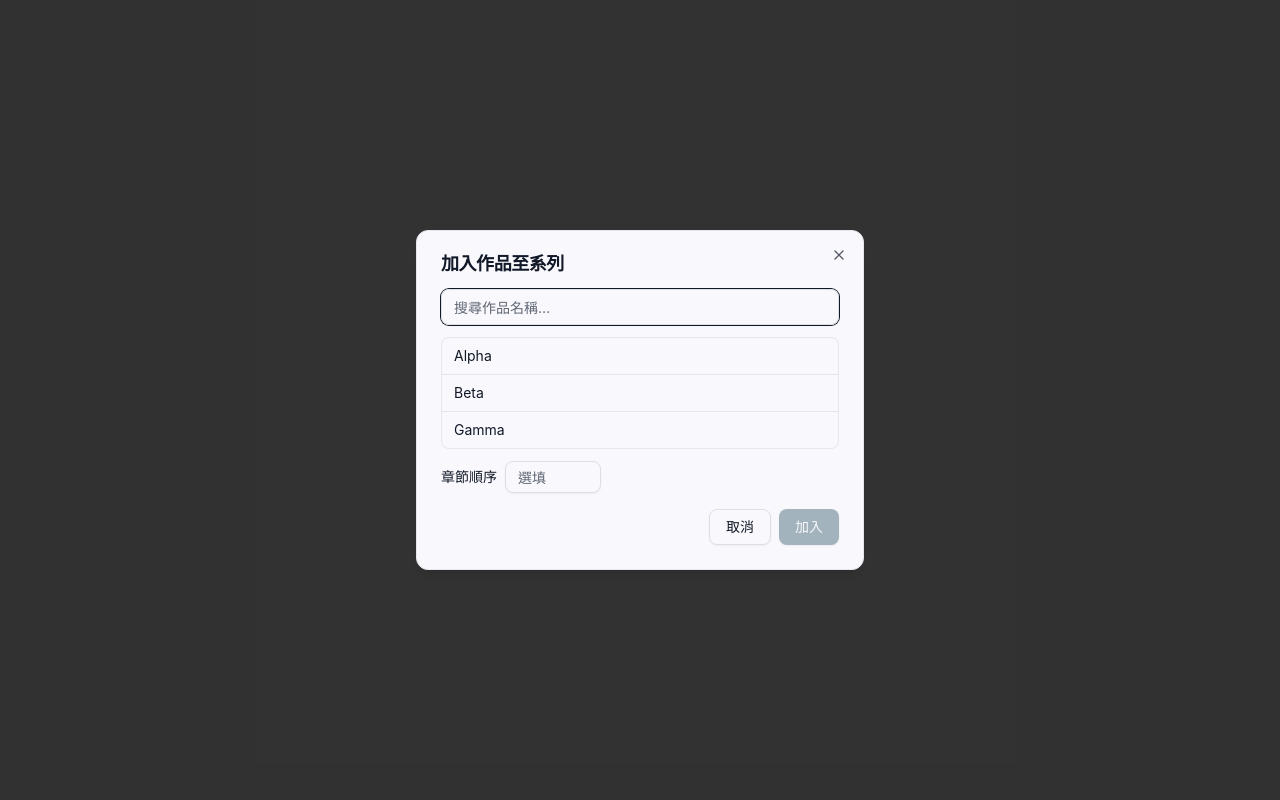
Test case: selection › enables confirm button after selecting a script
This screenshot has width=1280, height=800.
Check: the button "加入" is disabled, box [779, 509, 839, 545]
Click the option "Beta".
click(469, 392)  # box [442, 374, 838, 411]
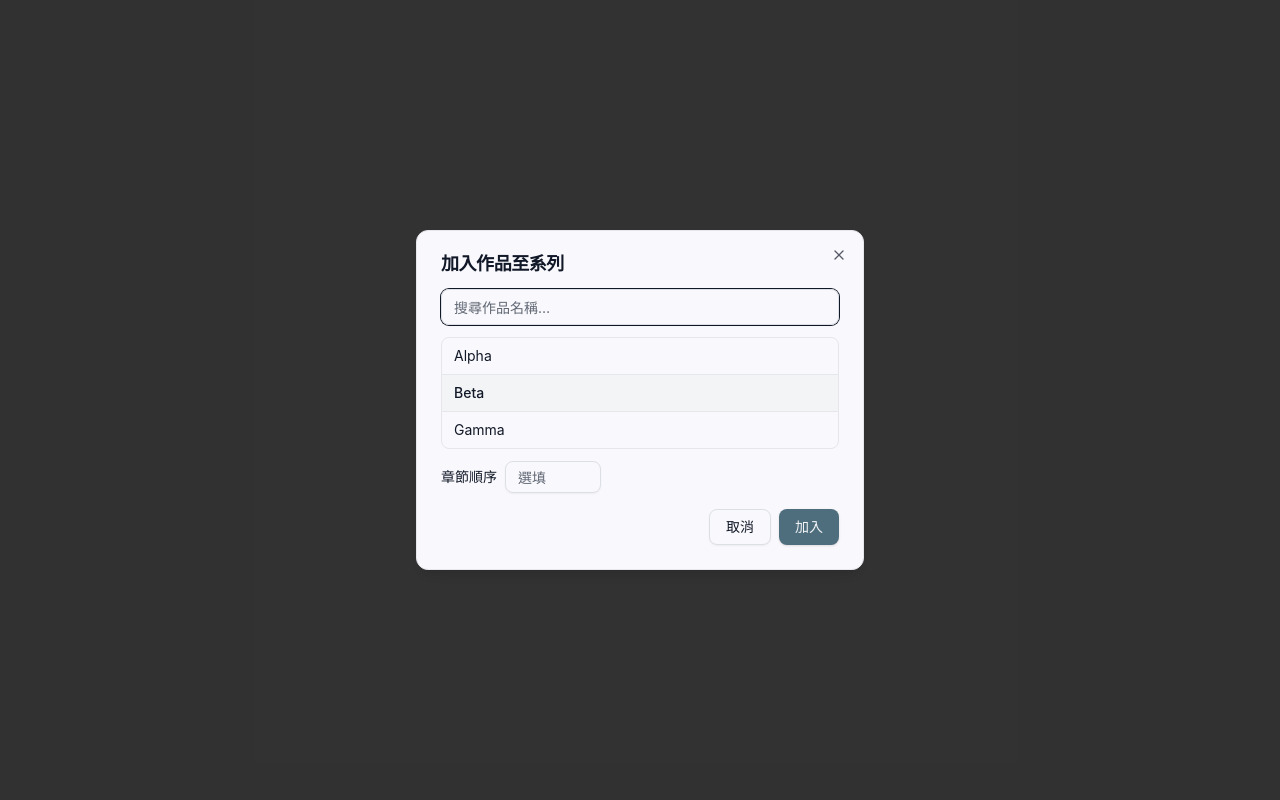
Check: the button "加入" is enabled, box [779, 509, 839, 545]
